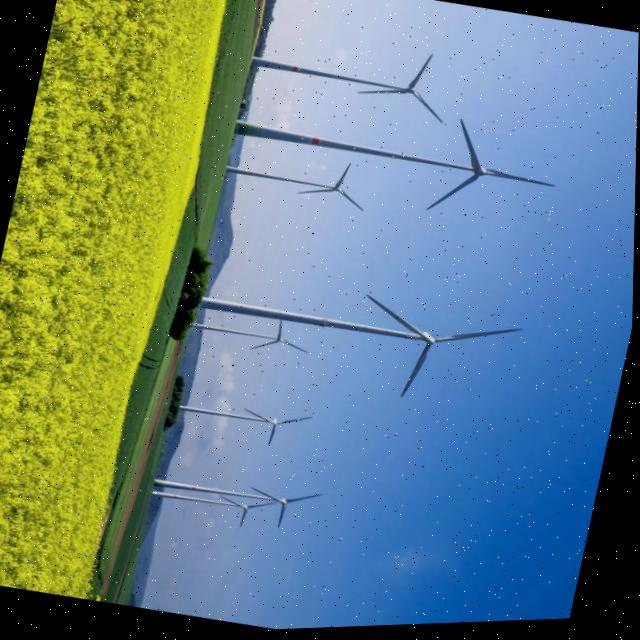solid-blade: (403, 345, 432, 399), (460, 121, 482, 173), (435, 334, 521, 346)
wind-turbine: (201, 298, 521, 399), (235, 122, 554, 212), (251, 58, 442, 126), (225, 167, 363, 213), (192, 323, 309, 355)
